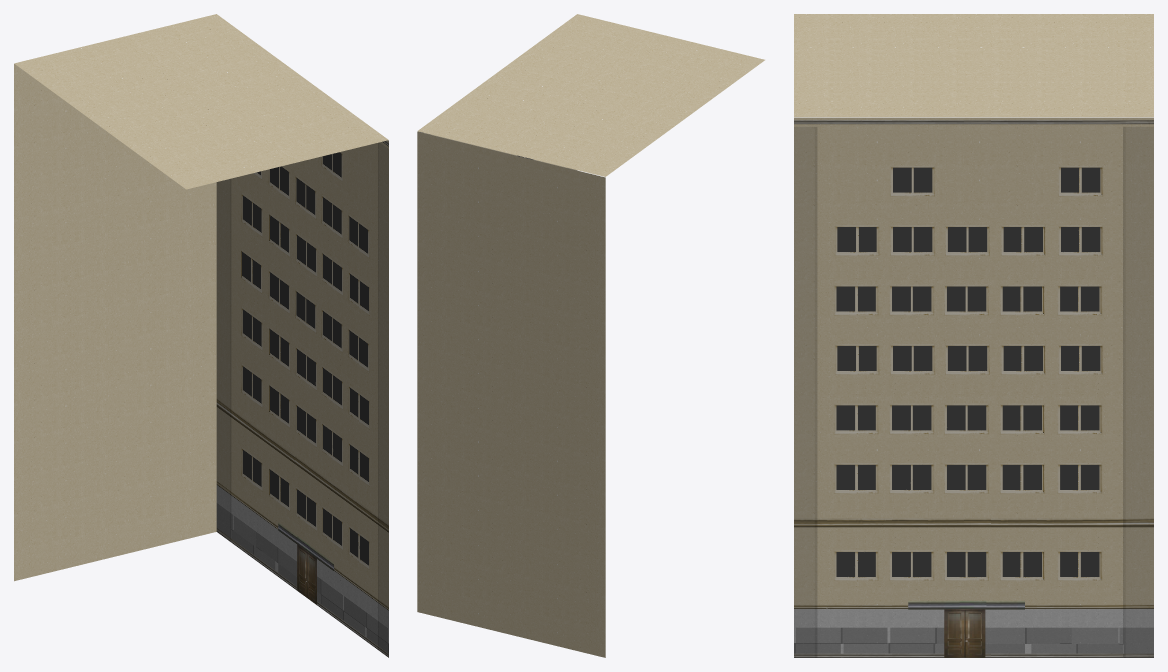
File: edificio-1.FBX
3 renders of one model, left to right at view 1: azimuth 30°, elevation 25°; view 2: azimuth 150°, elevation 25°; view 3: azimuth 270°, elevation 25°, orthographic. The views are drawn at different scales.
Visible parts, largest first — view 1: Box148; view 2: Box148; view 3: Box148.
Part boxes in pixels (<box>): Box148: <box>14,14,388,657</box>; Box148: <box>417,14,764,657</box>; Box148: <box>794,14,1153,657</box>.
Bounding box in the file's own units: 614 × 1500 × 904.
1 material, 1 textured.
